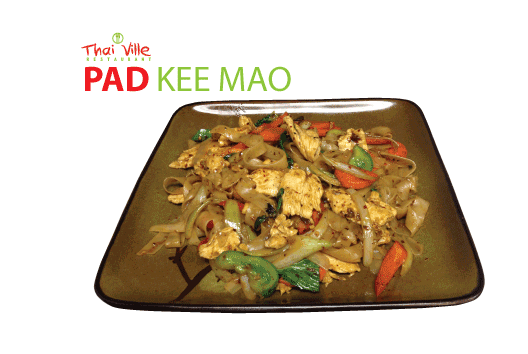curry: (349, 144, 375, 171)
sushi: (68, 98, 484, 305)
